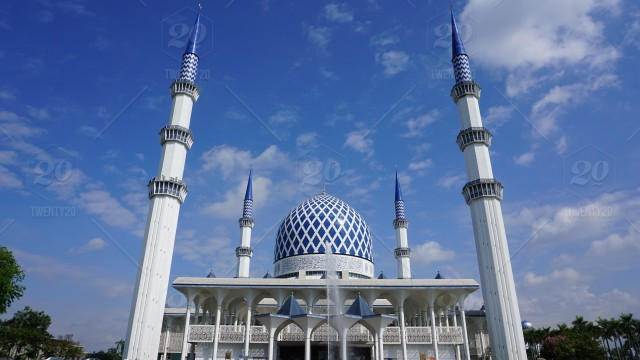Mosque: (151, 6, 521, 357)
